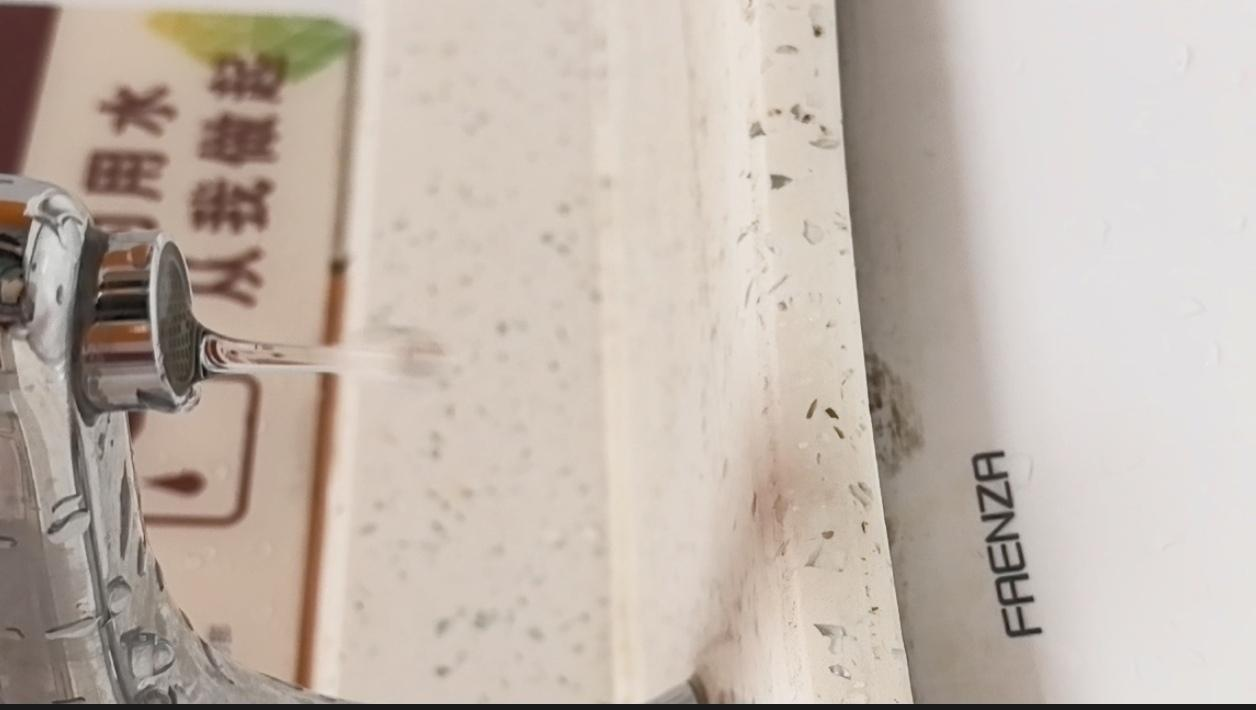water drop: (170, 330, 450, 386)
